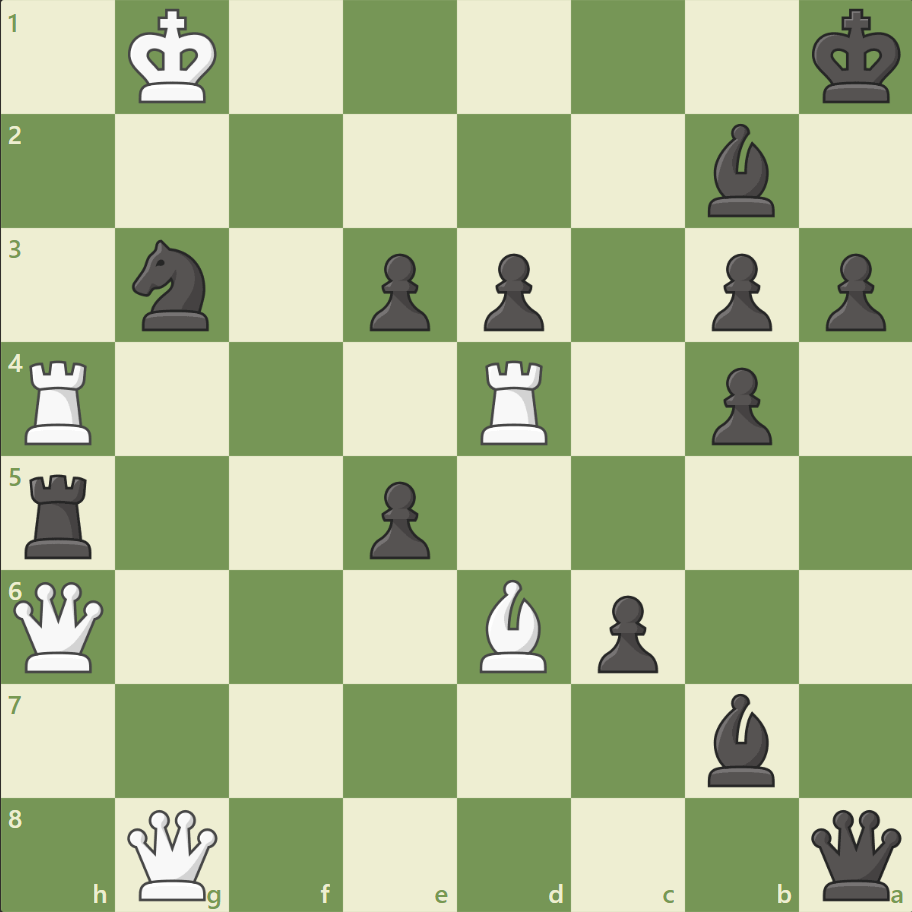B: (471, 574, 555, 676)
K: (124, 4, 224, 112)
Q: (10, 576, 109, 676), (124, 804, 223, 903)
R: (473, 352, 556, 449), (19, 352, 102, 449)
b: (698, 687, 782, 790), (698, 120, 782, 222)
k: (806, 4, 906, 112)
n: (124, 234, 222, 337)
p: (701, 359, 776, 450), (701, 246, 776, 337), (474, 246, 549, 337), (588, 586, 662, 677), (361, 473, 435, 564), (815, 246, 889, 337), (361, 246, 435, 337)
q: (805, 804, 904, 903)
r: (19, 466, 102, 563)
